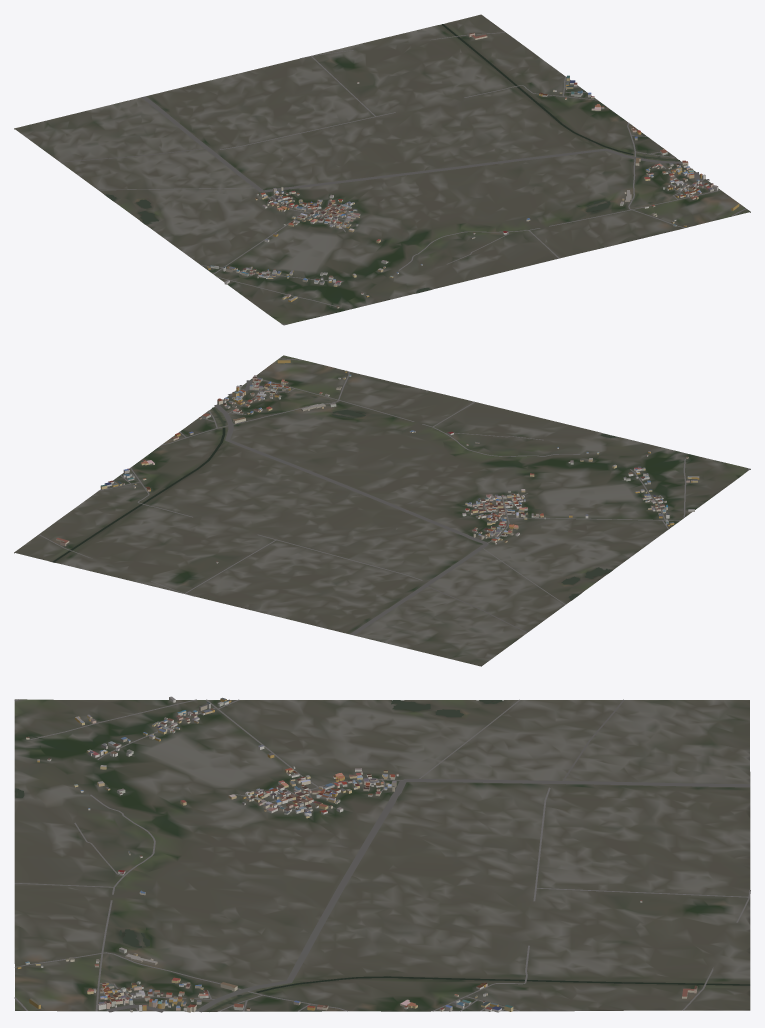
3 views of the same model, one above another, from view 1: azimuth 30°, elevation 25°; view 2: azimuth 150°, elevation 25°; view 3: azimuth 270°, elevation 25° (orthographic). The views are drawn at different scales.
Parts seen in each view (by area): view 1: ground, roads, buildings, water; view 2: ground, roads, buildings, water; view 3: ground, buildings, roads, water.
Part boxes in pixels (x1,y1,x2,y2): ground: [14, 14, 750, 325]; roads: [60, 32, 746, 324]; buildings: [207, 32, 739, 308]; water: [105, 24, 679, 292]; ground: [14, 355, 750, 666]; roads: [38, 358, 749, 635]; buildings: [56, 359, 699, 563]; water: [52, 407, 617, 599]; ground: [14, 699, 750, 1011]; buildings: [17, 696, 697, 1012]; roads: [14, 699, 750, 1012]; water: [15, 700, 750, 1011].
Bounding box in the file's own units: 1413 × 17.13 × 1405.
